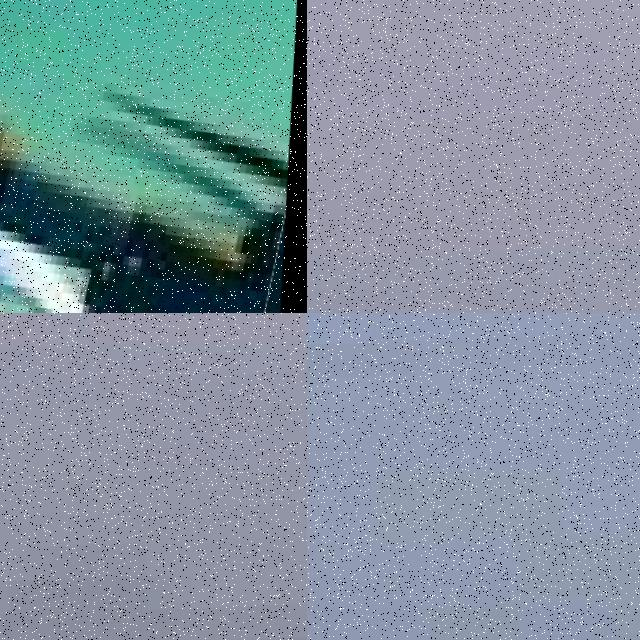drone: (0, 0, 307, 313)
